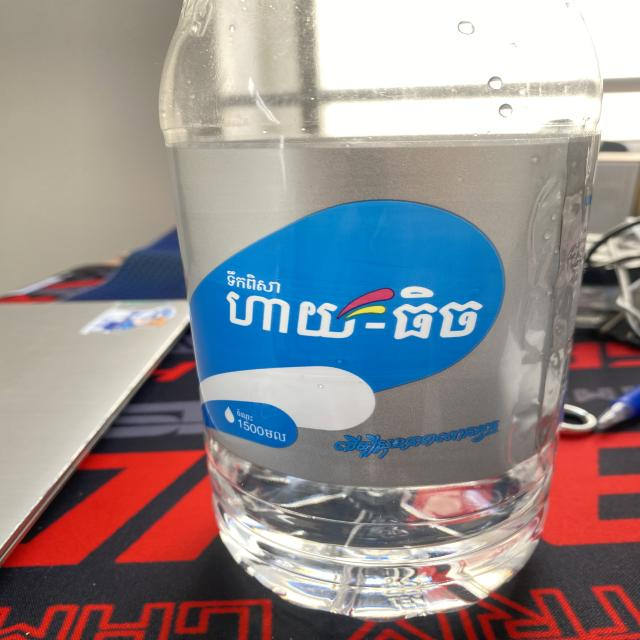593: (236, 418, 265, 438)
Yolov11_80vkh: (216, 285, 488, 343), (325, 411, 505, 463), (221, 266, 287, 295), (263, 427, 288, 443), (234, 409, 255, 423)
